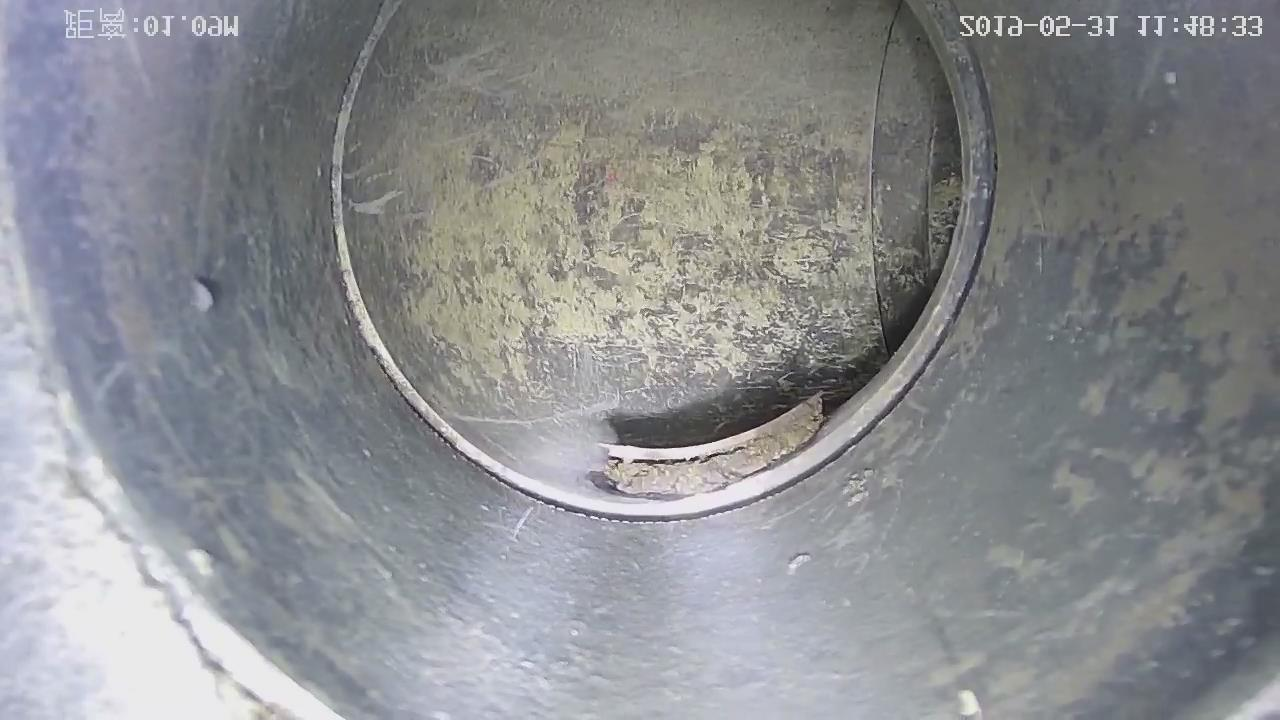CKTJ: (330, 1, 995, 522)
PL: (600, 395, 826, 498)
